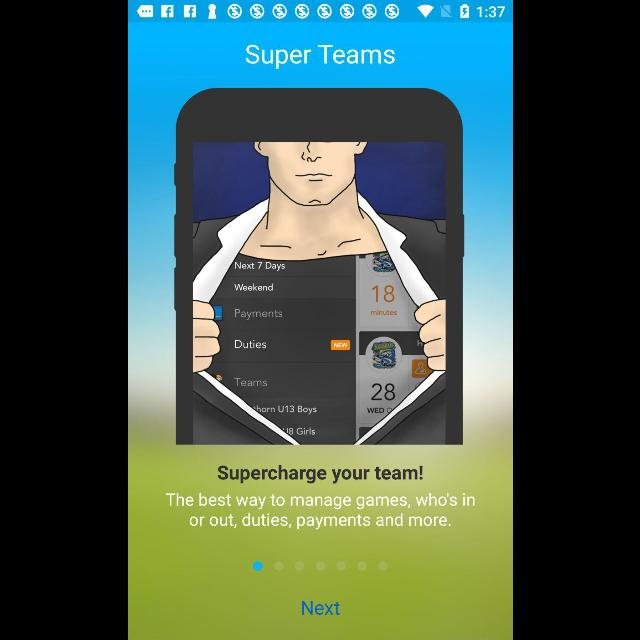image: (172, 88, 464, 444)
pageindicator: (252, 560, 388, 572)
text: (164, 492, 474, 528), (217, 464, 423, 484), (244, 44, 394, 70), (301, 600, 339, 616)
uppertaskbar: (128, 1, 512, 23)
